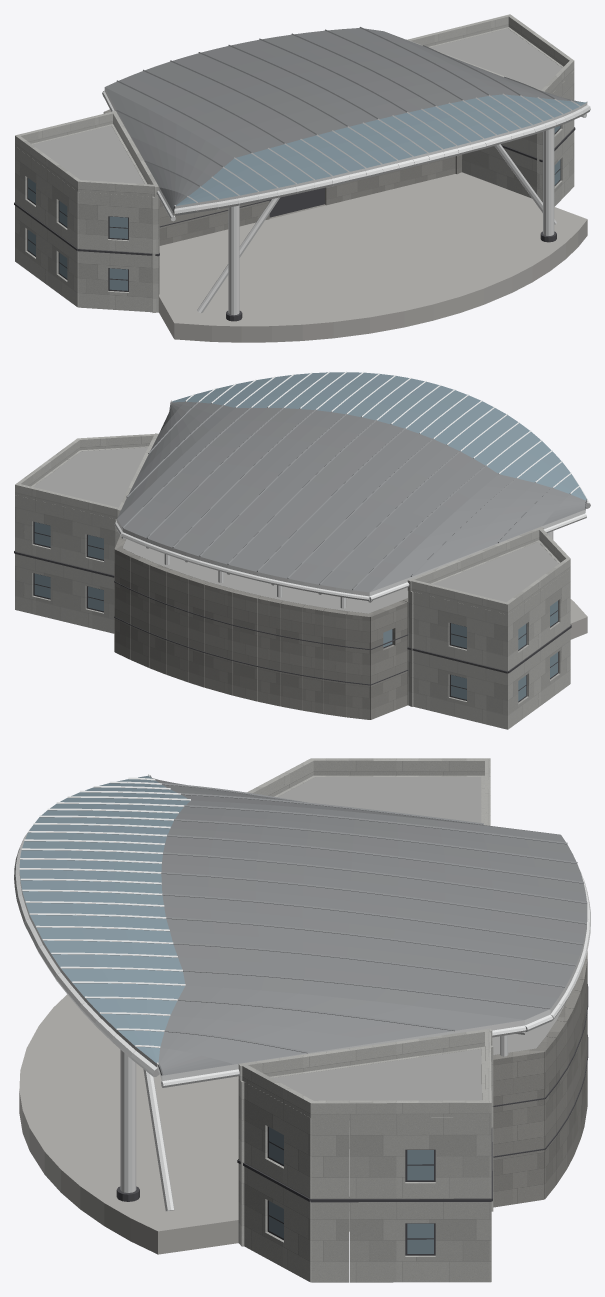
3 views of the same model, one above another, from view 1: azimuth 30°, elevation 25°; view 2: azimuth 150°, elevation 25°; view 3: azimuth 270°, elevation 25° (orthographic). The views are drawn at different scales.
Parts seen in each view (by area): view 1: amphitheater__stage, amphitheater__metal, amphitheater__panel, amphitheater__glass, amphitheater__steel, amphitheater__roof, amphitheater__stagehouse, amphitheater__frame; view 2: amphitheater__metal, amphitheater__panel, amphitheater__stagehouse, amphitheater__glass, amphitheater__roof, amphitheater__steel, amphitheater__frame, amphitheater__stage; view 3: amphitheater__metal, amphitheater__panel, amphitheater__stage, amphitheater__glass, amphitheater__steel, amphitheater__roof, amphitheater__stagehouse, amphitheater__frame.
Part boxes in pixels (left/top/right/bottom): amphitheater__stage: left=159, top=172, right=587, bottom=342; amphitheater__metal: left=104, top=27, right=580, bottom=212; amphitheater__panel: left=15, top=14, right=574, bottom=312; amphitheater__glass: left=28, top=94, right=586, bottom=290; amphitheater__steel: left=102, top=88, right=590, bottom=315; amphitheater__roof: left=32, top=28, right=562, bottom=183; amphitheater__stagehouse: left=103, top=109, right=461, bottom=245; amphitheater__frame: left=14, top=126, right=575, bottom=321; amphitheater__metal: left=117, top=401, right=587, bottom=592; amphitheater__panel: left=15, top=433, right=570, bottom=729; amphitheater__stagehouse: left=114, top=535, right=407, bottom=719; amphitheater__glass: left=34, top=372, right=586, bottom=701; amphitheater__roof: left=33, top=447, right=558, bottom=613; amphitheater__steel: left=114, top=371, right=590, bottom=608; amphitheater__frame: left=14, top=521, right=571, bottom=702; amphitheater__stage: left=570, top=599, right=587, bottom=639; amphitheater__metal: left=150, top=775, right=587, bottom=1075; amphitheater__panel: left=238, top=758, right=493, bottom=1282; amphitheater__stage: left=19, top=994, right=238, bottom=1254; amphitheater__glass: left=19, top=776, right=433, bottom=1253; amphitheater__steel: left=14, top=774, right=590, bottom=1211; amphitheater__roof: left=272, top=777, right=565, bottom=1202; amphitheater__stagehouse: left=493, top=951, right=587, bottom=1207; amphitheater__frame: left=116, top=984, right=588, bottom=1255.
Size of the model in its own units: 35.2 by 11.47 by 24.79.
Materials: 8 (2 with a texture image).
